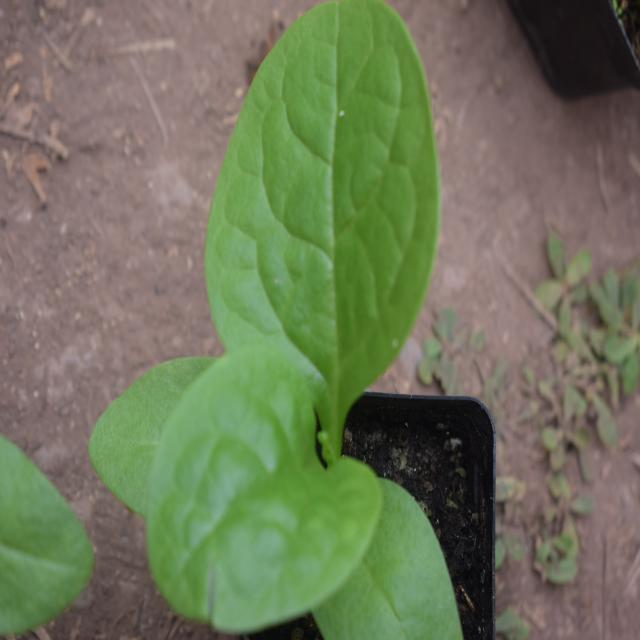Ceylon spinach: (126, 12, 477, 614)
